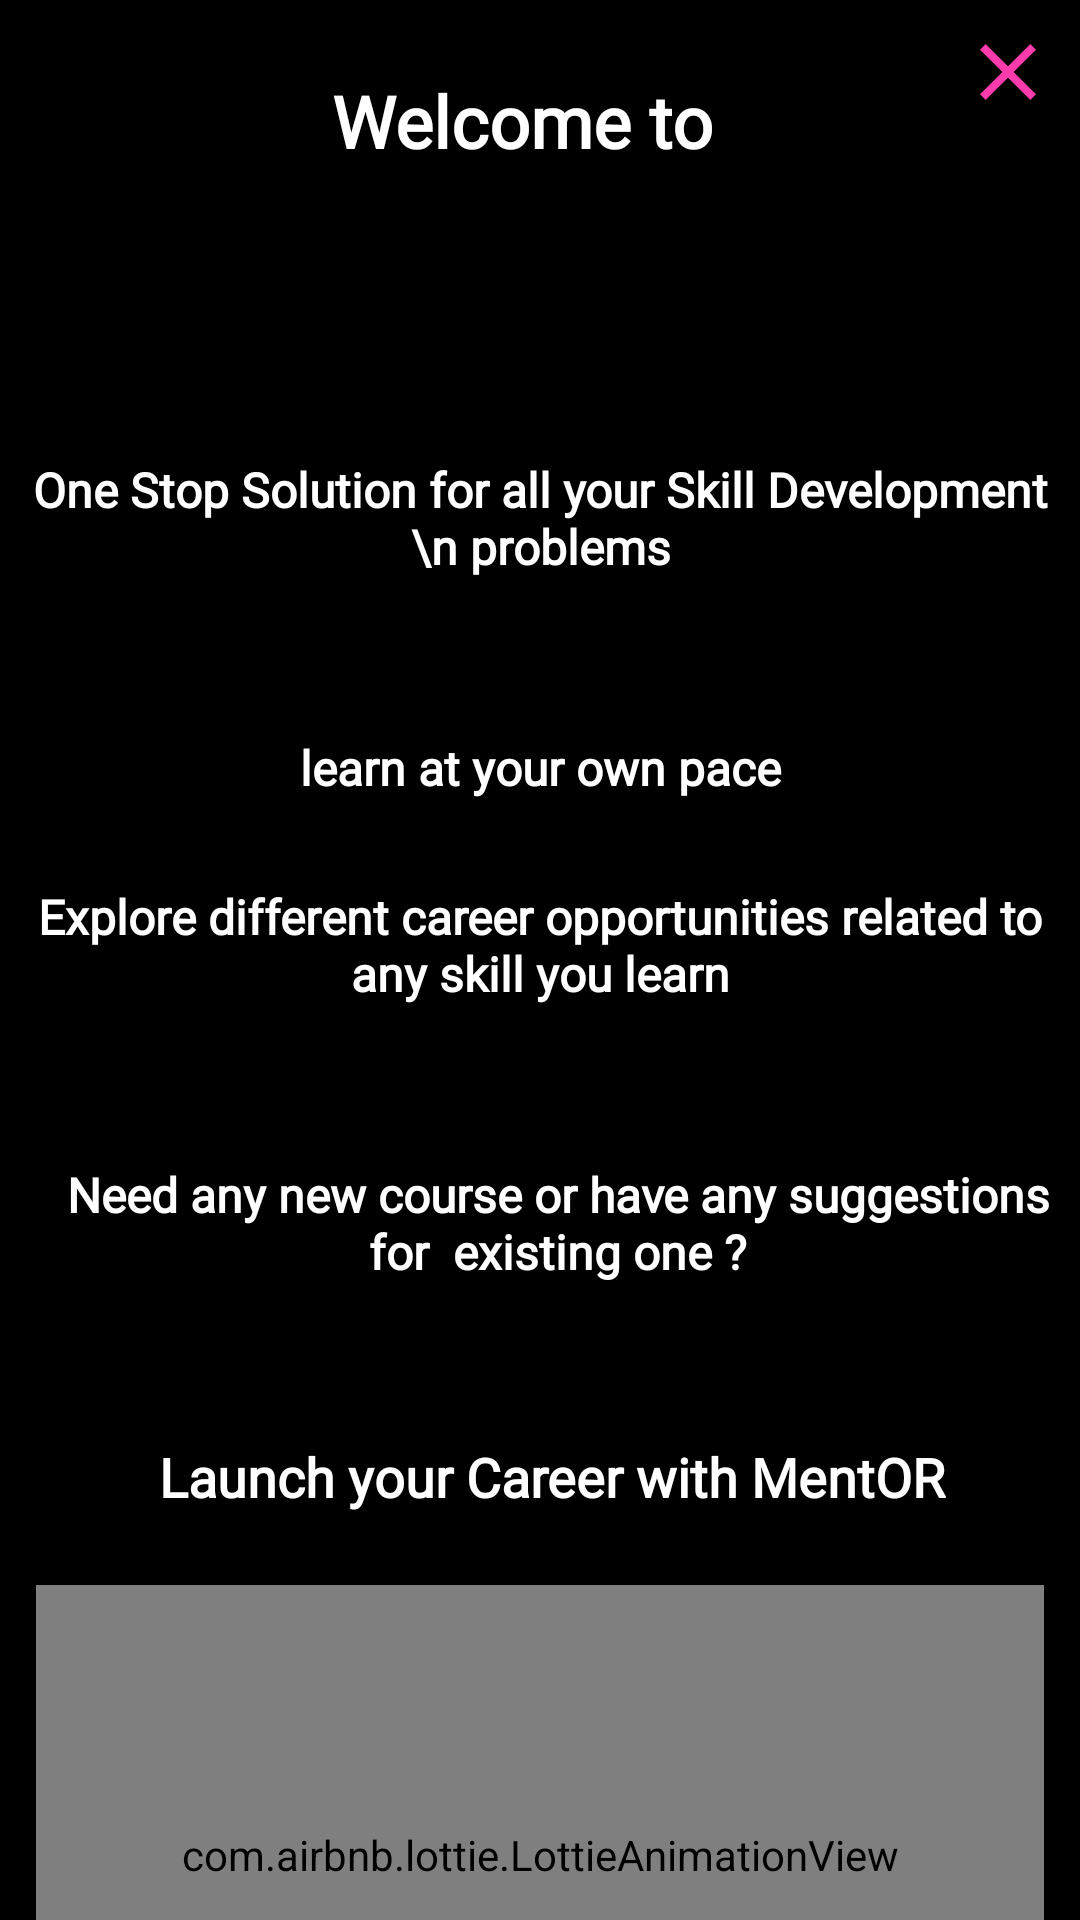

Named icons in this screenshot (1080×1920) and their centers, [x,y]:
close: [1008,72]
